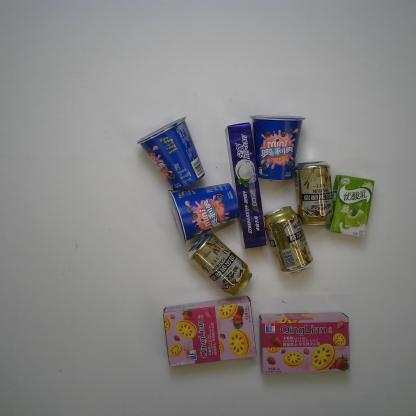Alcohol: (186, 232, 256, 298), (260, 202, 314, 275), (291, 156, 337, 229)
Dessert: (249, 308, 358, 380), (160, 295, 260, 372), (135, 112, 208, 192), (245, 104, 312, 186), (165, 177, 242, 245)
Milk: (326, 170, 380, 243)
Personal Hygiene: (221, 119, 273, 253)
